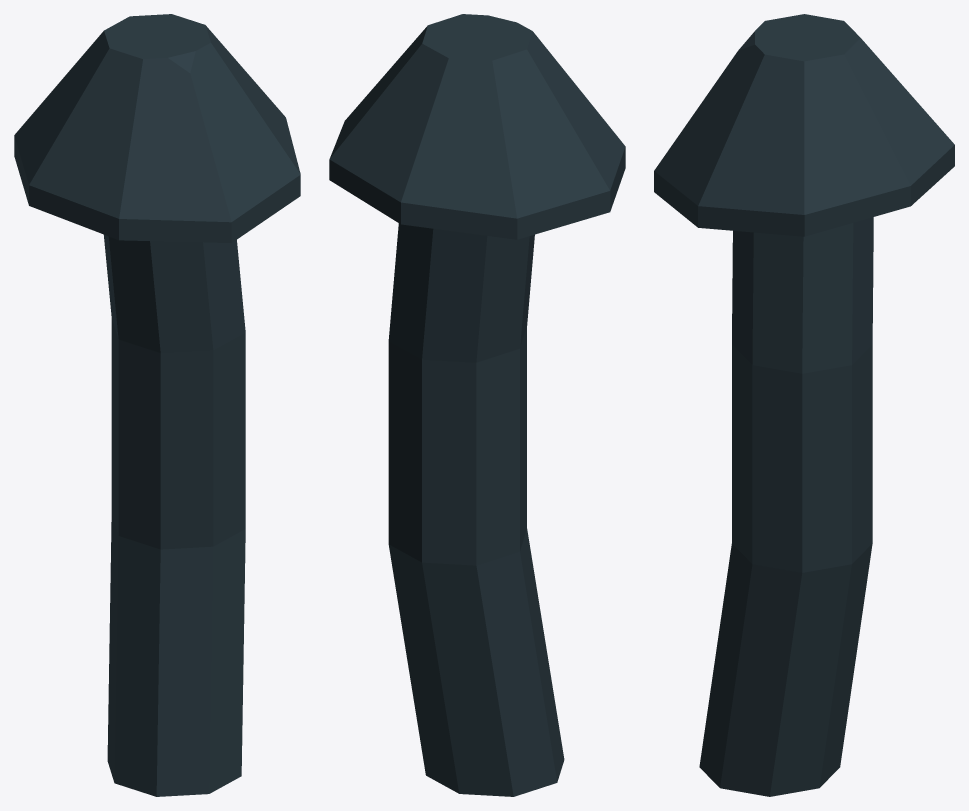
File: Chimney 02.fbx
The picture shows the model from 3 angles, left to right: view 1: azimuth 30°, elevation 25°; view 2: azimuth 150°, elevation 25°; view 3: azimuth 270°, elevation 25°; orthographic projection. The views are drawn at different scales.
Parts seen in each view (by area): view 1: Chimney 02; view 2: Chimney 02; view 3: Chimney 02.
Boxes of the visible parts, bbox=[...] form: Chimney 02: bbox=[14, 14, 300, 796]; Chimney 02: bbox=[329, 14, 625, 796]; Chimney 02: bbox=[654, 14, 954, 796].
Bounding box in the file's own units: 128 × 342 × 128.
